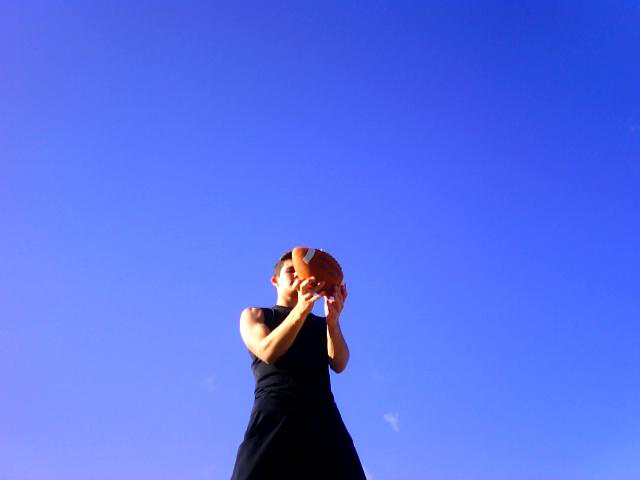football: (293, 246, 345, 298)
